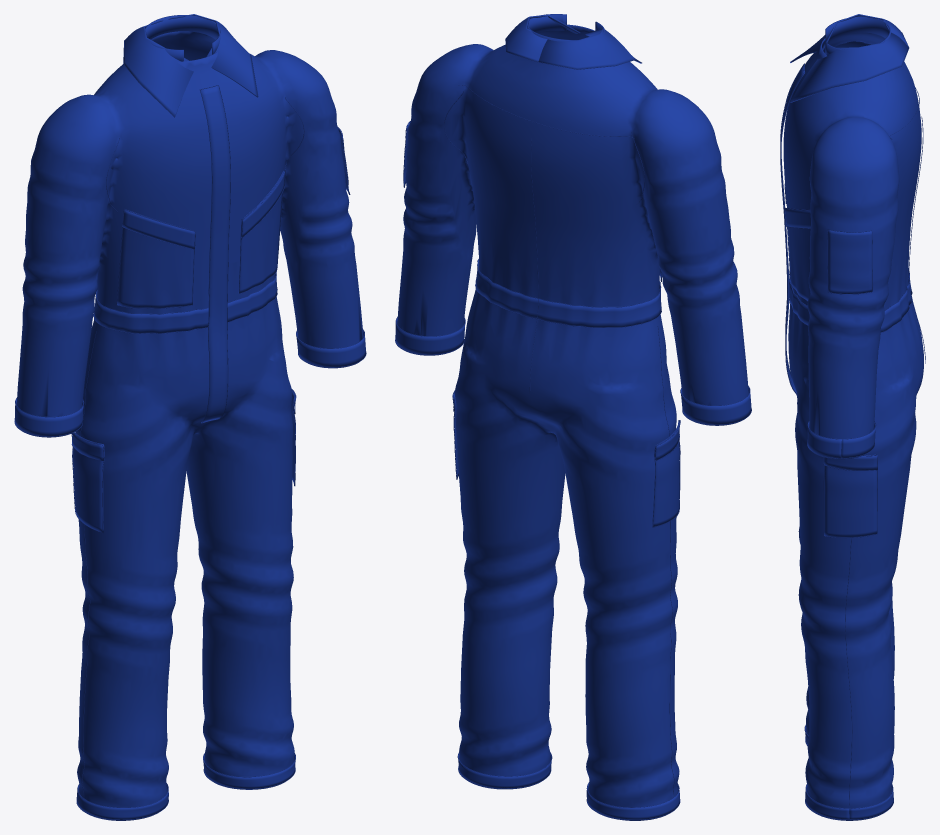
The model's file is industrial_coverall.glb.
3 renders of one model, left to right at view 1: azimuth 30°, elevation 25°; view 2: azimuth 150°, elevation 25°; view 3: azimuth 270°, elevation 25°, orthographic. The views are drawn at different scales.
Visible parts, largest first — view 1: BODY, COLLAR, FRONT_PLACKET, CHEST_POCKET_R, WAIST_BAND, CHEST_POCKET_L, LEG_POCKET_R, CUFF_R, CUFF_L, CHEST_FLAP_R, HEM_R, HEM_L (+2 smaller); view 2: BODY, COLLAR, WAIST_BAND, LEG_POCKET_R, CUFF_R, CUFF_L, HEM_R, HEM_L; view 3: BODY, COLLAR, LEG_POCKET_L, SLEEVE_POCKET, CHEST_POCKET_L, CUFF_L, HEM_L, WAIST_BAND, FRONT_PLACKET, LEG_FLAP_L, FRONT_PLACKET_SEAM, CHEST_FLAP_L (+1 smaller).
Part boxes in pixels (box(x1,y1,x2,y2)): BODY: box(16, 31, 363, 820); COLLAR: box(123, 14, 257, 117); FRONT_PLACKET: box(200, 85, 230, 422); CHEST_POCKET_R: box(117, 209, 193, 308); WAIST_BAND: box(93, 272, 277, 333); CHEST_POCKET_L: box(238, 170, 283, 293); LEG_POCKET_R: box(72, 432, 104, 532); CUFF_R: box(14, 399, 83, 436); CUFF_L: box(296, 330, 366, 367); CHEST_FLAP_R: box(123, 209, 195, 249); HEM_R: box(76, 783, 168, 819); HEM_L: box(203, 754, 295, 788); BODY: box(397, 24, 748, 820); COLLAR: box(505, 14, 641, 69); WAIST_BAND: box(475, 260, 661, 327); LEG_POCKET_R: box(652, 420, 679, 526); CUFF_R: box(681, 387, 751, 424); CUFF_L: box(395, 318, 465, 354); HEM_R: box(586, 783, 679, 819); HEM_L: box(458, 753, 551, 788); BODY: box(783, 32, 923, 820); COLLAR: box(790, 14, 908, 102); LEG_POCKET_L: box(824, 454, 877, 537); SLEEVE_POCKET: box(827, 229, 872, 293); CHEST_POCKET_L: box(787, 227, 810, 300); CUFF_L: box(807, 422, 875, 458); HEM_L: box(805, 785, 893, 819); WAIST_BAND: box(789, 273, 912, 332); FRONT_PLACKET: box(780, 64, 804, 393); LEG_FLAP_L: box(823, 455, 877, 470); FRONT_PLACKET_SEAM: box(780, 63, 804, 394); CHEST_FLAP_L: box(785, 208, 810, 228).
Bounding box in the file's own units: 0.7698 × 1.62 × 0.2882.
